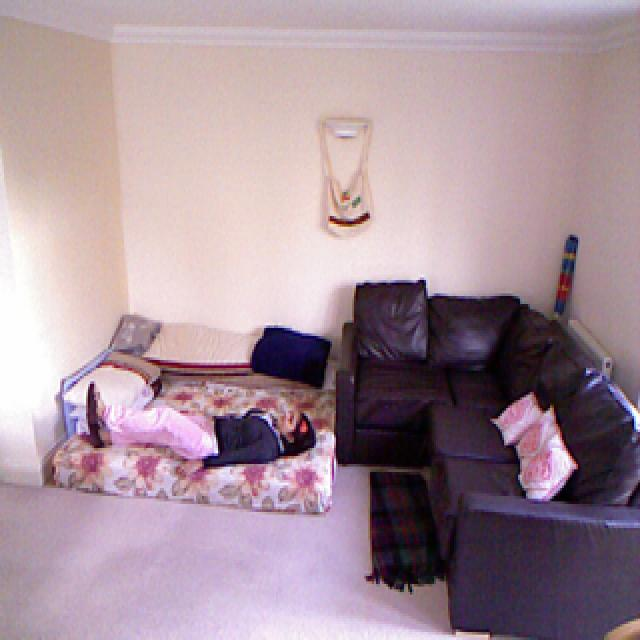lying: (85, 378, 317, 469)
